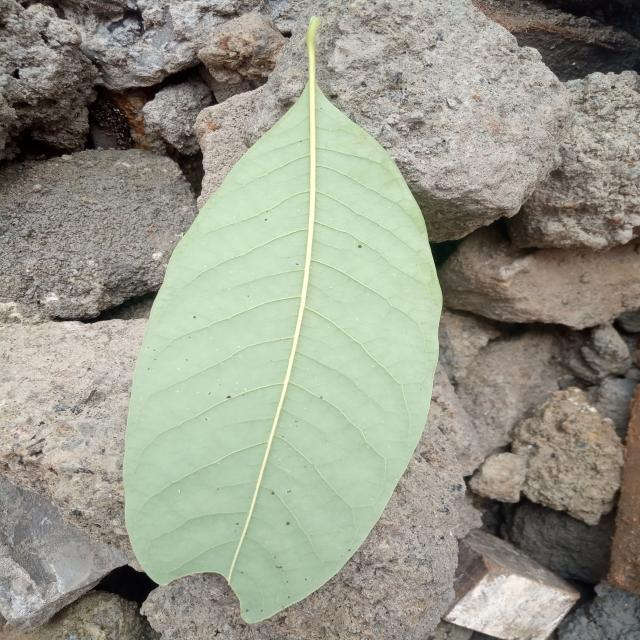coffee: (125, 18, 440, 622)
